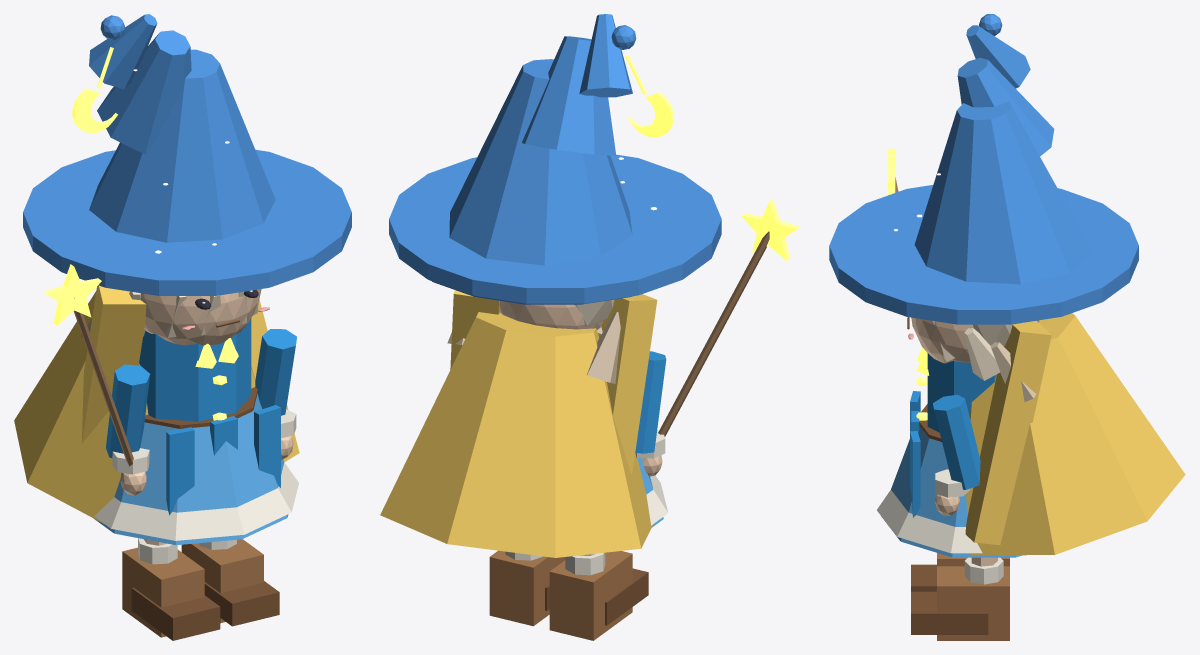
Rendered from climber.glb.
3 views of the same model, side by side, from view 1: azimuth 30°, elevation 25°; view 2: azimuth 150°, elevation 25°; view 3: azimuth 270°, elevation 25° (orthographic). The views are drawn at different scales.
Parts seen in each view (by area): view 1: Climber_HatBrim, Climber_HatCone, Climber_Cape_Back, Climber_BlueSkirt, Climber_BlueCoat_Torso, Climber_HatBentMid, Climber_WhiteSkirtFrill, Climber_Cape_LeftFold, Climber_Head, Climber_LeftLeg_Boot, Climber_RightLeg_Boot, Climber_LeftLeg_BootToe (+16 smaller); view 2: Climber_Cape_Back, Climber_HatBrim, Climber_HatCone, Climber_HatBentMid, Climber_Cape_LeftFold, Climber_LeftLeg_Boot, Climber_RightLeg_Boot, Climber_HatBentTip, Climber_StarWand_Staff, Climber_RightArm_Sleeve, Climber_Head, Climber_Cape_RightFold (+7 smaller); view 3: Climber_Cape_Back, Climber_HatCone, Climber_HatBrim, Climber_Cape_RightFold, Climber_RightLeg_Boot, Climber_BlueSkirt, Climber_HatBentMid, Climber_LeftArm_Sleeve, Climber_WhiteSkirtFrill, Climber_BlueCoat_Torso, Climber_RightLeg_BootToe, Climber_HatBentTip (+8 smaller).
Part boxes in pixels (left/top/right/bottom): Climber_HatBrim: left=23, top=149, right=351, bottom=295; Climber_HatCone: left=89, top=49, right=275, bottom=242; Climber_Cape_Back: left=14, top=291, right=255, bottom=523; Climber_BlueSkirt: left=94, top=393, right=288, bottom=545; Climber_BlueCoat_Torso: left=139, top=318, right=251, bottom=421; Climber_HatBentMid: left=97, top=30, right=191, bottom=154; Climber_WhiteSkirtFrill: left=94, top=463, right=298, bottom=540; Climber_Cape_LeftFold: left=82, top=285, right=146, bottom=443; Climber_Head: left=141, top=289, right=260, bottom=345; Climber_LeftLeg_Boot: left=122, top=547, right=204, bottom=637; Climber_RightLeg_Boot: left=181, top=539, right=263, bottom=623; Climber_LeftLeg_BootToe: left=131, top=587, right=220, bottom=640; Climber_Cape_Back: left=380, top=312, right=653, bottom=557; Climber_HatBrim: left=389, top=154, right=721, bottom=303; Climber_HatCone: left=449, top=59, right=632, bottom=265; Climber_HatBentMid: left=522, top=36, right=616, bottom=155; Climber_Cape_LeftFold: left=598, top=294, right=657, bottom=475; Climber_LeftLeg_Boot: left=549, top=551, right=632, bottom=640; Climber_RightLeg_Boot: left=489, top=550, right=565, bottom=626; Climber_HatBentTip: left=579, top=14, right=632, bottom=97; Climber_StarWand_Staff: left=658, top=231, right=769, bottom=436; Climber_RightArm_Sleeve: left=635, top=351, right=666, bottom=453; Climber_Head: left=499, top=301, right=603, bottom=329; Climber_Cape_RightFold: left=450, top=290, right=499, bottom=369; Climber_Cape_Back: left=966, top=313, right=1185, bottom=555; Climber_HatCone: left=914, top=101, right=1092, bottom=284; Climber_HatBrim: left=829, top=185, right=1138, bottom=324; Climber_Cape_RightFold: left=965, top=321, right=1051, bottom=544; Climber_RightLeg_Boot: left=937, top=566, right=1009, bottom=640; Climber_BlueSkirt: left=882, top=425, right=1022, bottom=557; Climber_HatBentMid: left=957, top=57, right=1054, bottom=156; Climber_LeftArm_Sleeve: left=933, top=394, right=980, bottom=489; Climber_WhiteSkirtFrill: left=877, top=490, right=982, bottom=553; Climber_BlueCoat_Torso: left=927, top=353, right=996, bottom=432; Climber_RightLeg_BootToe: left=911, top=591, right=988, bottom=634; Climber_HatBentTip: left=966, top=25, right=1030, bottom=88.
Bounding box in the file's own units: 1.68 × 2.93 × 1.66.
